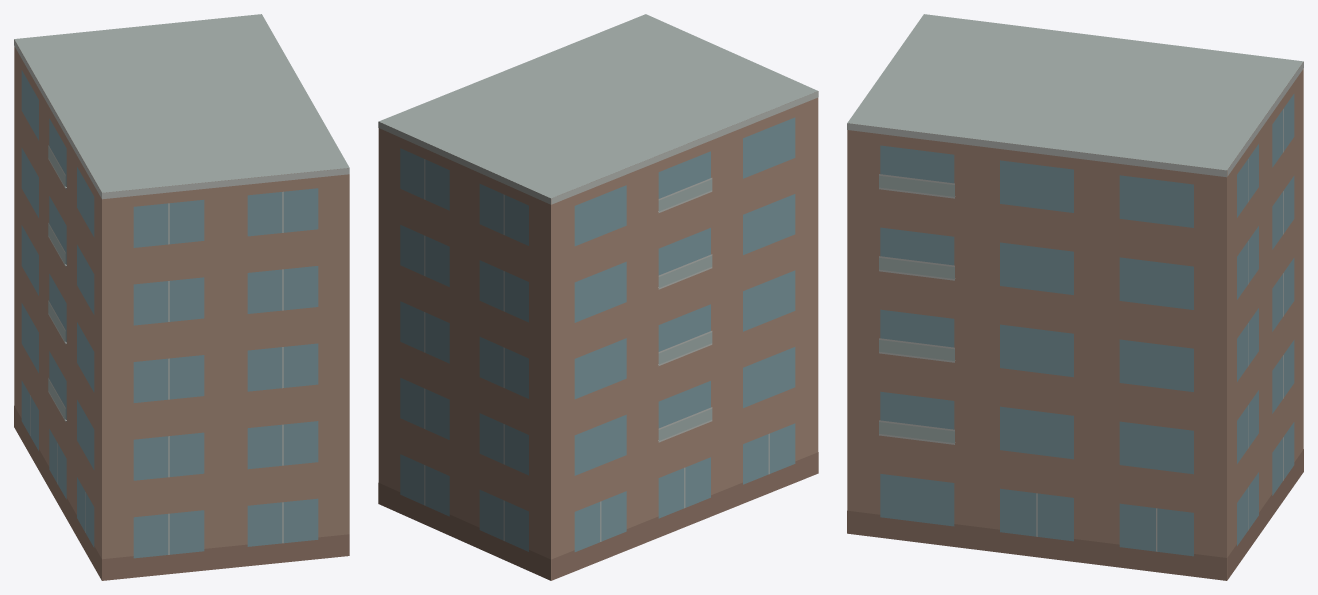
File: survey-upis-32879707.glb
3 views of the same model, side by side, from view 1: azimuth 30°, elevation 25°; view 2: azimuth 150°, elevation 25°; view 3: azimuth 270°, elevation 25° (orthographic). The views are drawn at different scales.
Parts seen in each view (by area): view 1: survey-upis-32879707.tmp; view 2: survey-upis-32879707.tmp; view 3: survey-upis-32879707.tmp.
Boxes of the visible parts, x1,y1,x2,y2 form: survey-upis-32879707.tmp: (14, 14, 349, 580); survey-upis-32879707.tmp: (378, 14, 818, 580); survey-upis-32879707.tmp: (847, 14, 1303, 580).
Size of the model in its own units: 12.03 by 14.7 by 14.83.
